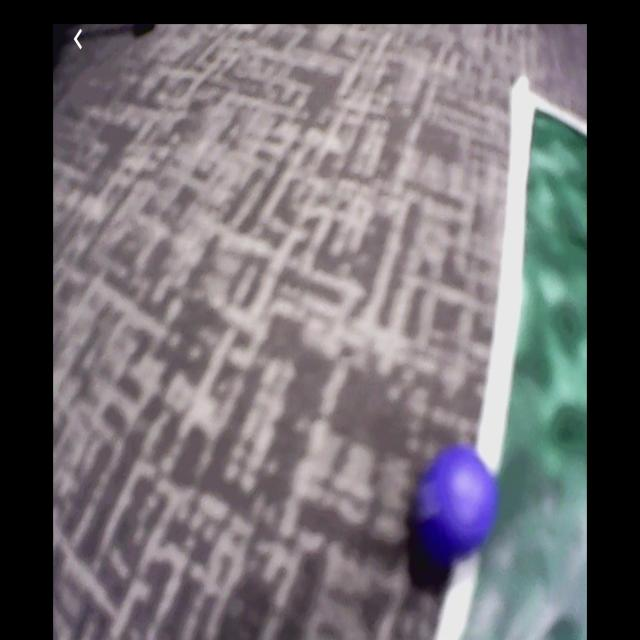ball: (421, 445, 497, 553)
